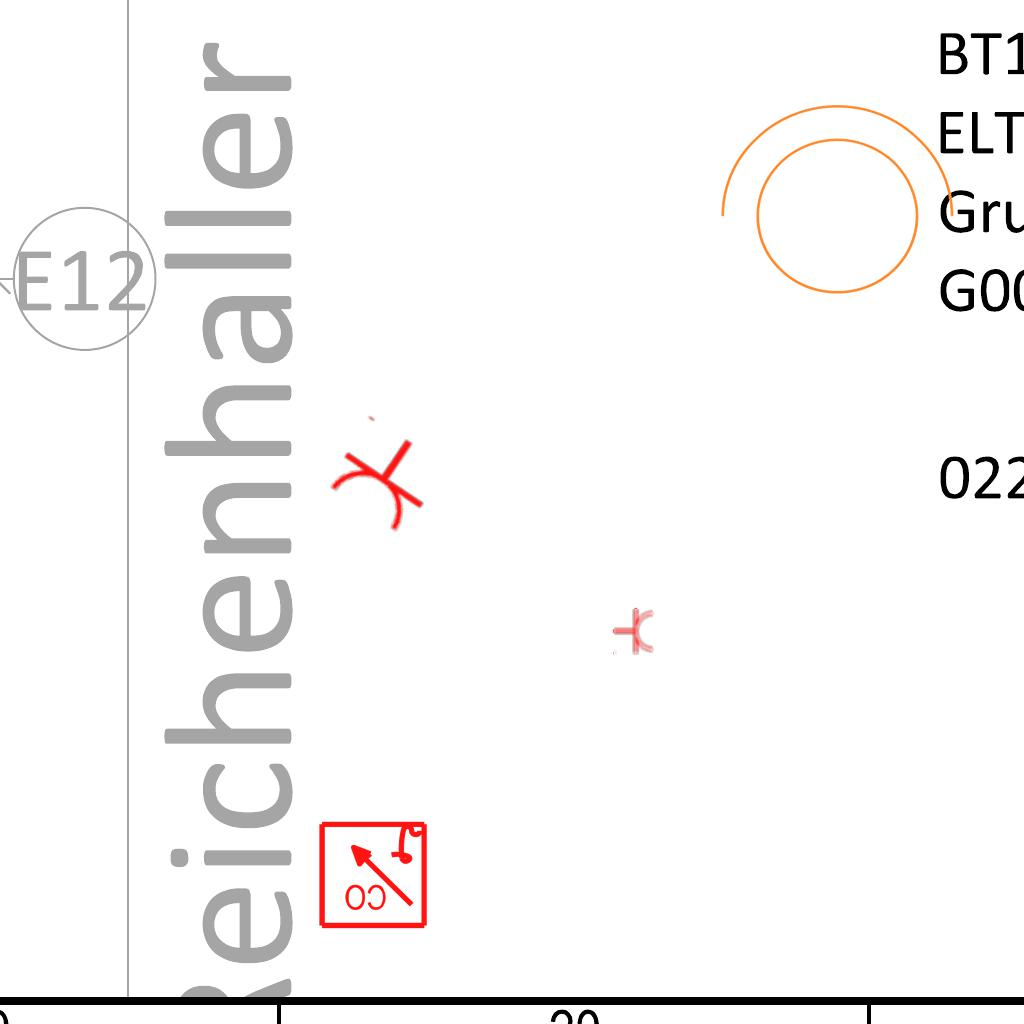ROA_Rauchmelder_optisch_mit_Signalgeber_(Sockelsirene): (316, 817, 429, 930)
Scheinwerfer_fuer_Alarmbeleuchtung: (699, 94, 963, 319)
Schukosteckdose_einfach: (318, 410, 451, 540), (612, 607, 655, 657)
